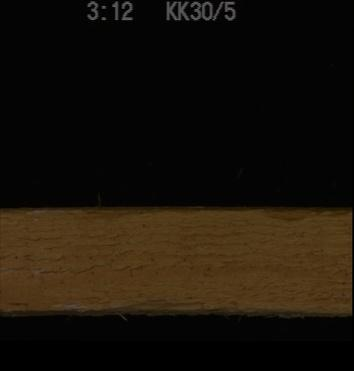wave: (86, 300, 256, 318), (42, 204, 203, 217), (255, 205, 351, 220)
